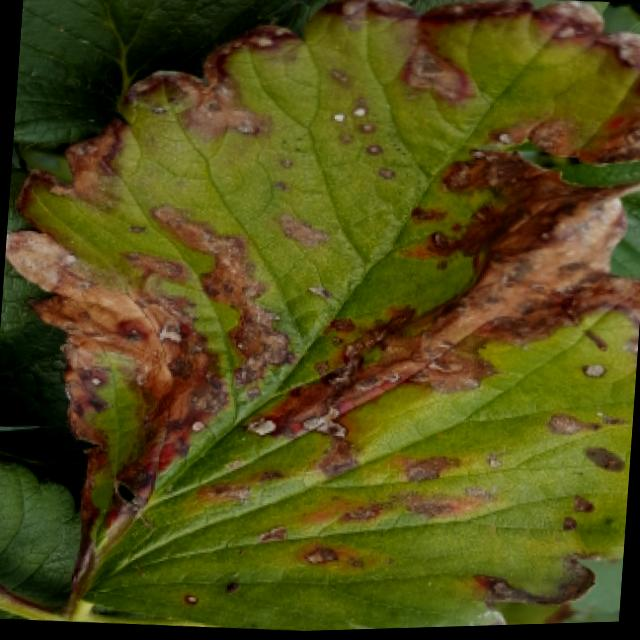Angular Leafspot: (3, 0, 640, 633), (0, 579, 52, 615)
